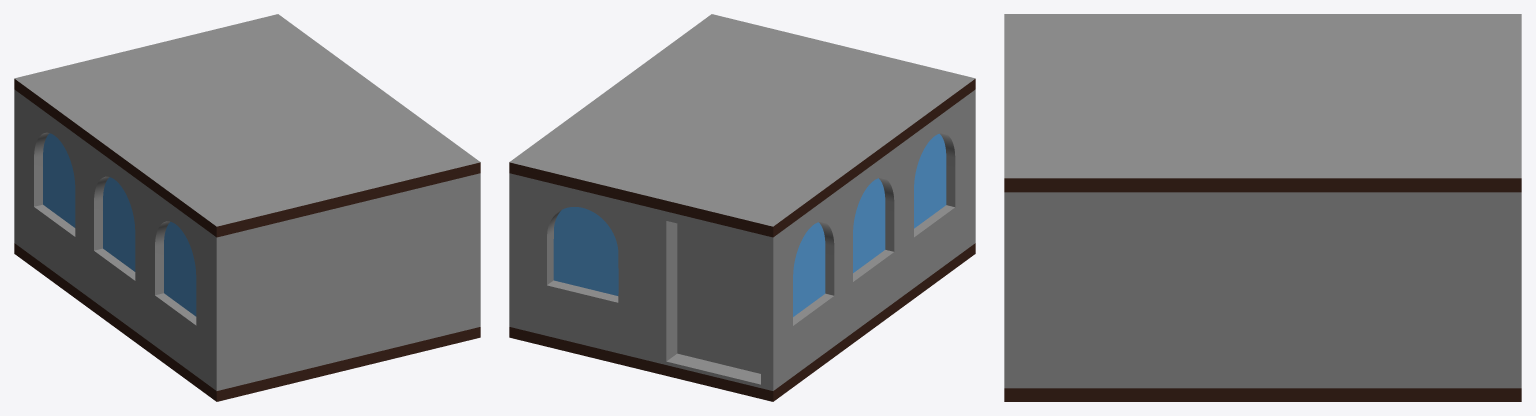
3 views of the same model, side by side, from view 1: azimuth 30°, elevation 25°; view 2: azimuth 150°, elevation 25°; view 3: azimuth 270°, elevation 25° (orthographic). The views are drawn at different scales.
Visible parts, largest first — view 1: Box021; view 2: Box021; view 3: Box021.
Boxes of the visible parts, left/top/right/bottom form: Box021: left=14, top=14, right=480, bottom=401; Box021: left=509, top=14, right=975, bottom=401; Box021: left=1004, top=14, right=1521, bottom=401.
Size of the model in its own units: 174 by 110 by 231.
